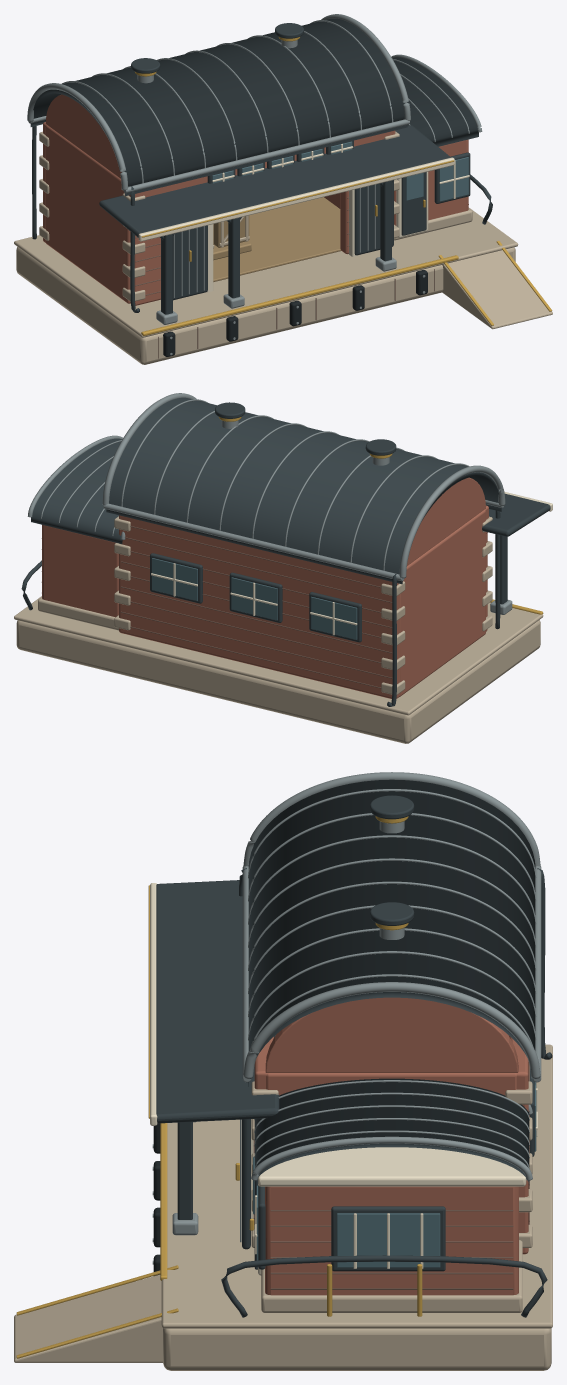
Rendered from barrel_roof_freight_station.glb.
3 renders of one model, top to bottom at view 1: azimuth 30°, elevation 25°; view 2: azimuth 150°, elevation 25°; view 3: azimuth 270°, elevation 25°, orthographic. The views are drawn at different scales.
Visible parts, largest first — view 1: MainBarrelRoof, PlatformDeck, LoadingCanopyRoof, LoadingPlatformFoundation, WarehouseLeftEndWall, InteriorWarehouseFloor, AttachedLoadingRamp, OfficeShallowBarrelRoof, BarrelGable_-3.87, CanopyIvoryFascia, OpenSlidingDoorLeaf_0, CargoOpeningLeftPier (+21 smaller); view 2: MainBarrelRoof, WarehouseRearWall, LoadingPlatformFoundation, WarehouseLeftEndWall, PlatformDeck, OfficeMasonry, OfficeShallowBarrelRoof, BarrelGable_-3.87, RoofEaveGutter_1, LoadingCanopyRoof, RearServiceWindow_0_Pane, RoofEndFascia_-4.23 (+19 smaller); view 3: MainBarrelRoof, PlatformDeck, LoadingCanopyRoof, OfficeMasonry, LoadingPlatformFoundation, BarrelGable_2.58, OfficeShallowBarrelRoof, AttachedLoadingRamp, OfficeCornice, OfficeStonePlinth, OfficeSideGlazing, RoofEndFascia_2.93 (+28 smaller).
Boxes of the visible parts, left/top/right/bottom form: MainBarrelRoof: left=30, top=18, right=407, bottom=196; PlatformDeck: left=14, top=207, right=518, bottom=337; LoadingCanopyRoof: left=99, top=125, right=450, bottom=237; LoadingPlatformFoundation: left=16, top=247, right=515, bottom=364; WarehouseLeftEndWall: left=45, top=125, right=130, bottom=303; InteriorWarehouseFloor: left=213, top=197, right=341, bottom=281; AttachedLoadingRamp: left=442, top=250, right=552, bottom=329; OfficeShallowBarrelRoof: left=392, top=57, right=478, bottom=146; BarrelGable_-3.87: left=45, top=94, right=121, bottom=178; CanopyIvoryFascia: left=138, top=157, right=454, bottom=241; OpenSlidingDoorLeaf_0: left=173, top=225, right=207, bottom=300; CargoOpeningLeftPier: left=130, top=176, right=207, bottom=305; MainBarrelRoof: left=106, top=397, right=501, bottom=584; WarehouseRearWall: left=119, top=515, right=399, bottom=698; LoadingPlatformFoundation: left=16, top=620, right=540, bottom=743; WarehouseLeftEndWall: left=399, top=509, right=485, bottom=696; PlatformDeck: left=14, top=596, right=543, bottom=715; OfficeMasonry: left=42, top=525, right=118, bottom=617; OfficeShallowBarrelRoof: left=31, top=438, right=122, bottom=543; BarrelGable_-3.87: left=407, top=477, right=485, bottom=565; RoofEaveGutter_1: left=103, top=503, right=404, bottom=581; LoadingCanopyRoof: left=482, top=493, right=550, bottom=536; RearServiceWindow_0_Pane: left=311, top=596, right=357, bottom=639; RoofEndFascia_-4.23: left=399, top=465, right=505, bottom=578; MainBarrelRoof: left=248, top=779, right=535, bottom=1086; PlatformDeck: left=161, top=1044, right=552, bottom=1328; LoadingCanopyRoof: left=156, top=880, right=279, bottom=1123; OfficeMasonry: left=265, top=1186, right=518, bottom=1295; LoadingPlatformFoundation: left=163, top=1328, right=551, bottom=1370; BarrelGable_2.58: left=265, top=997, right=518, bottom=1072; OfficeShallowBarrelRoof: left=254, top=1078, right=529, bottom=1184; AttachedLoadingRamp: left=14, top=1274, right=162, bottom=1362; OfficeCornice: left=258, top=1147, right=526, bottom=1186; OfficeStonePlinth: left=261, top=1240, right=522, bottom=1312; OfficeSideGlazing: left=337, top=1213, right=440, bottom=1267; RoofEndFascia_2.93: left=243, top=982, right=540, bottom=1078.
Size of what is drawn, in the model's own units: 9.67 by 5.55 by 7.77.
